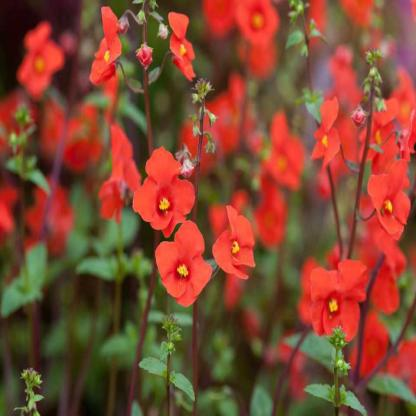other: (8, 28, 96, 247), (136, 160, 254, 292), (205, 4, 278, 144), (256, 112, 304, 252), (306, 250, 365, 344), (366, 157, 414, 241), (87, 7, 134, 92), (158, 9, 203, 92), (306, 94, 343, 171)
